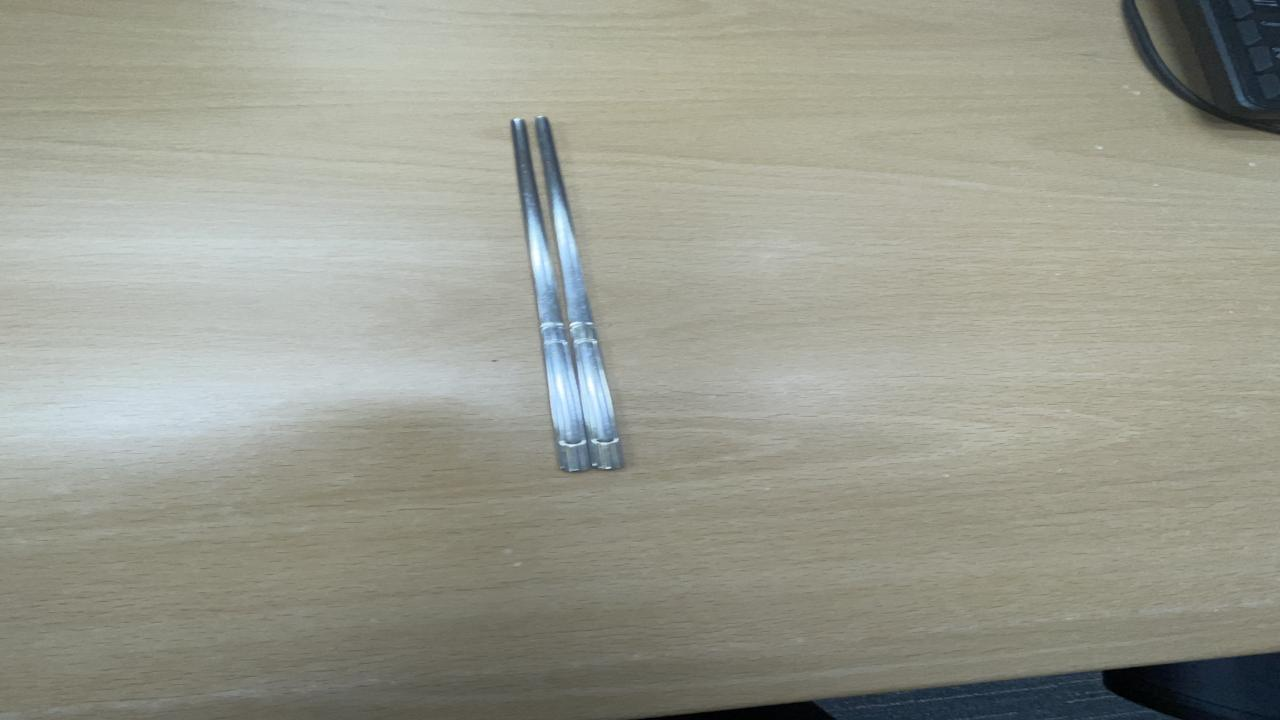chopstick: (499, 114, 633, 479)
